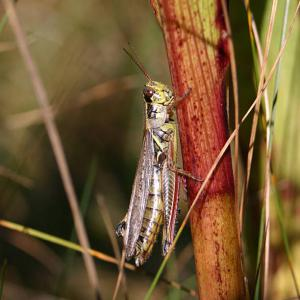locust: (101, 54, 201, 268)
